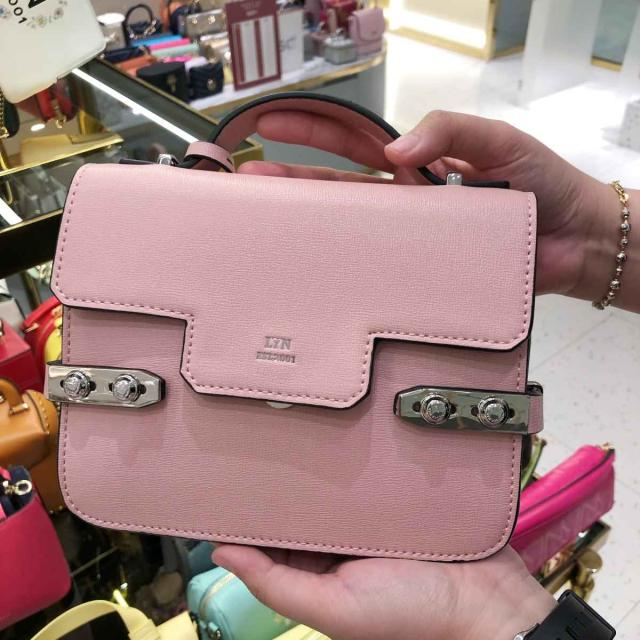Handbag: (44, 158, 542, 566)
